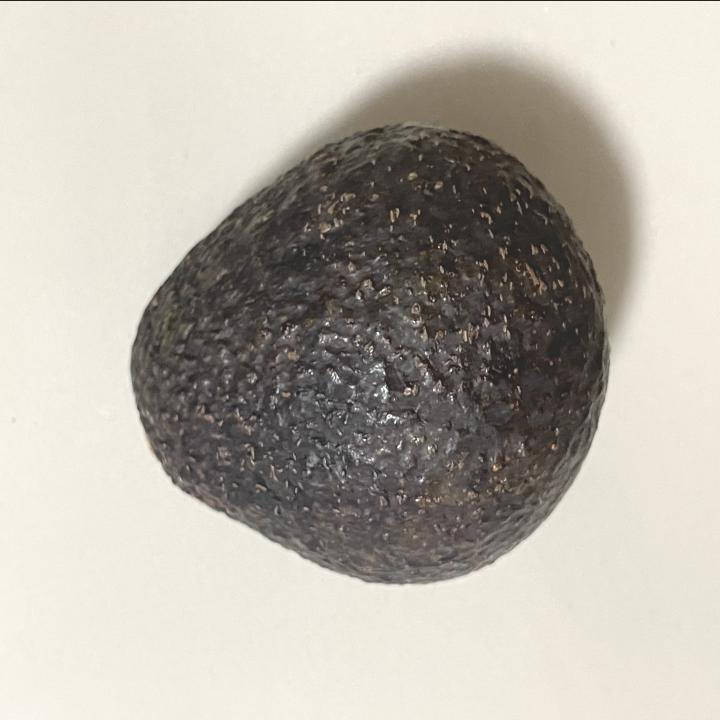Level3: (118, 112, 619, 599)
